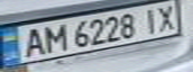2: (87, 15, 109, 46), (103, 12, 124, 43)
6: (69, 17, 90, 48)
8: (118, 10, 142, 39)
A: (15, 25, 51, 57)
I: (136, 6, 163, 35)
M: (39, 21, 69, 53)
X: (151, 1, 181, 33)
